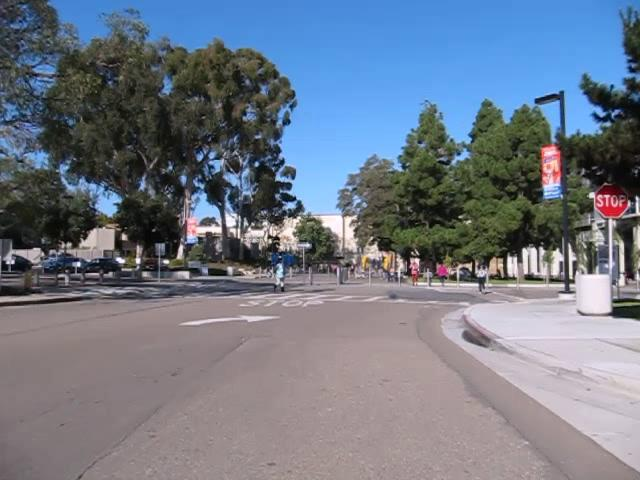stop: (593, 182, 630, 218)
